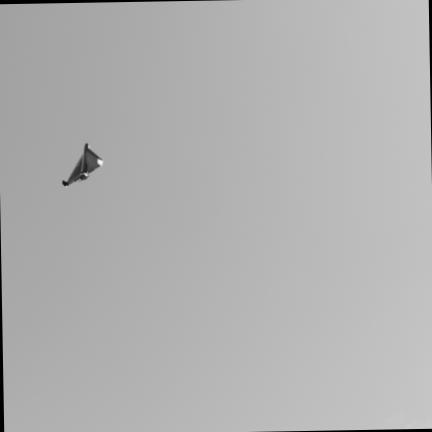Shahed: (62, 143, 102, 186)
